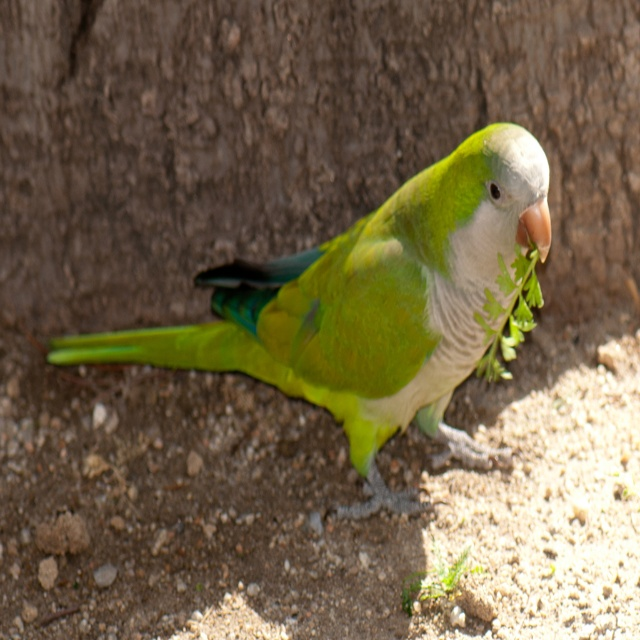Parrot: (46, 112, 552, 516)
